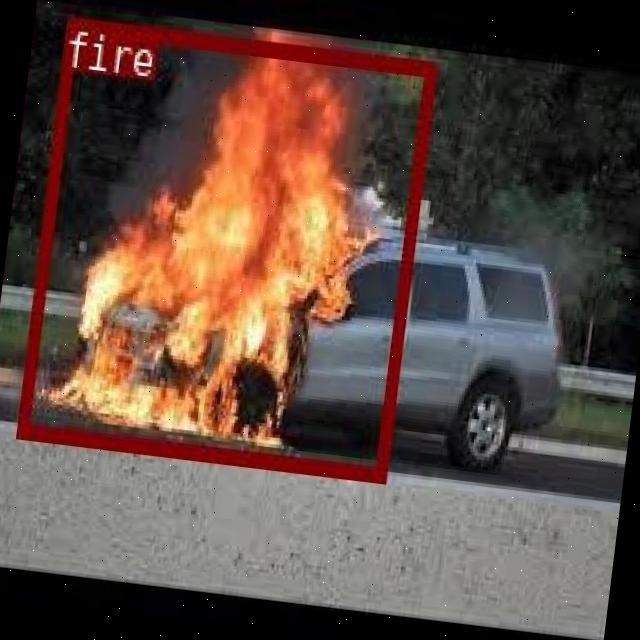fire: (14, 15, 434, 479)
